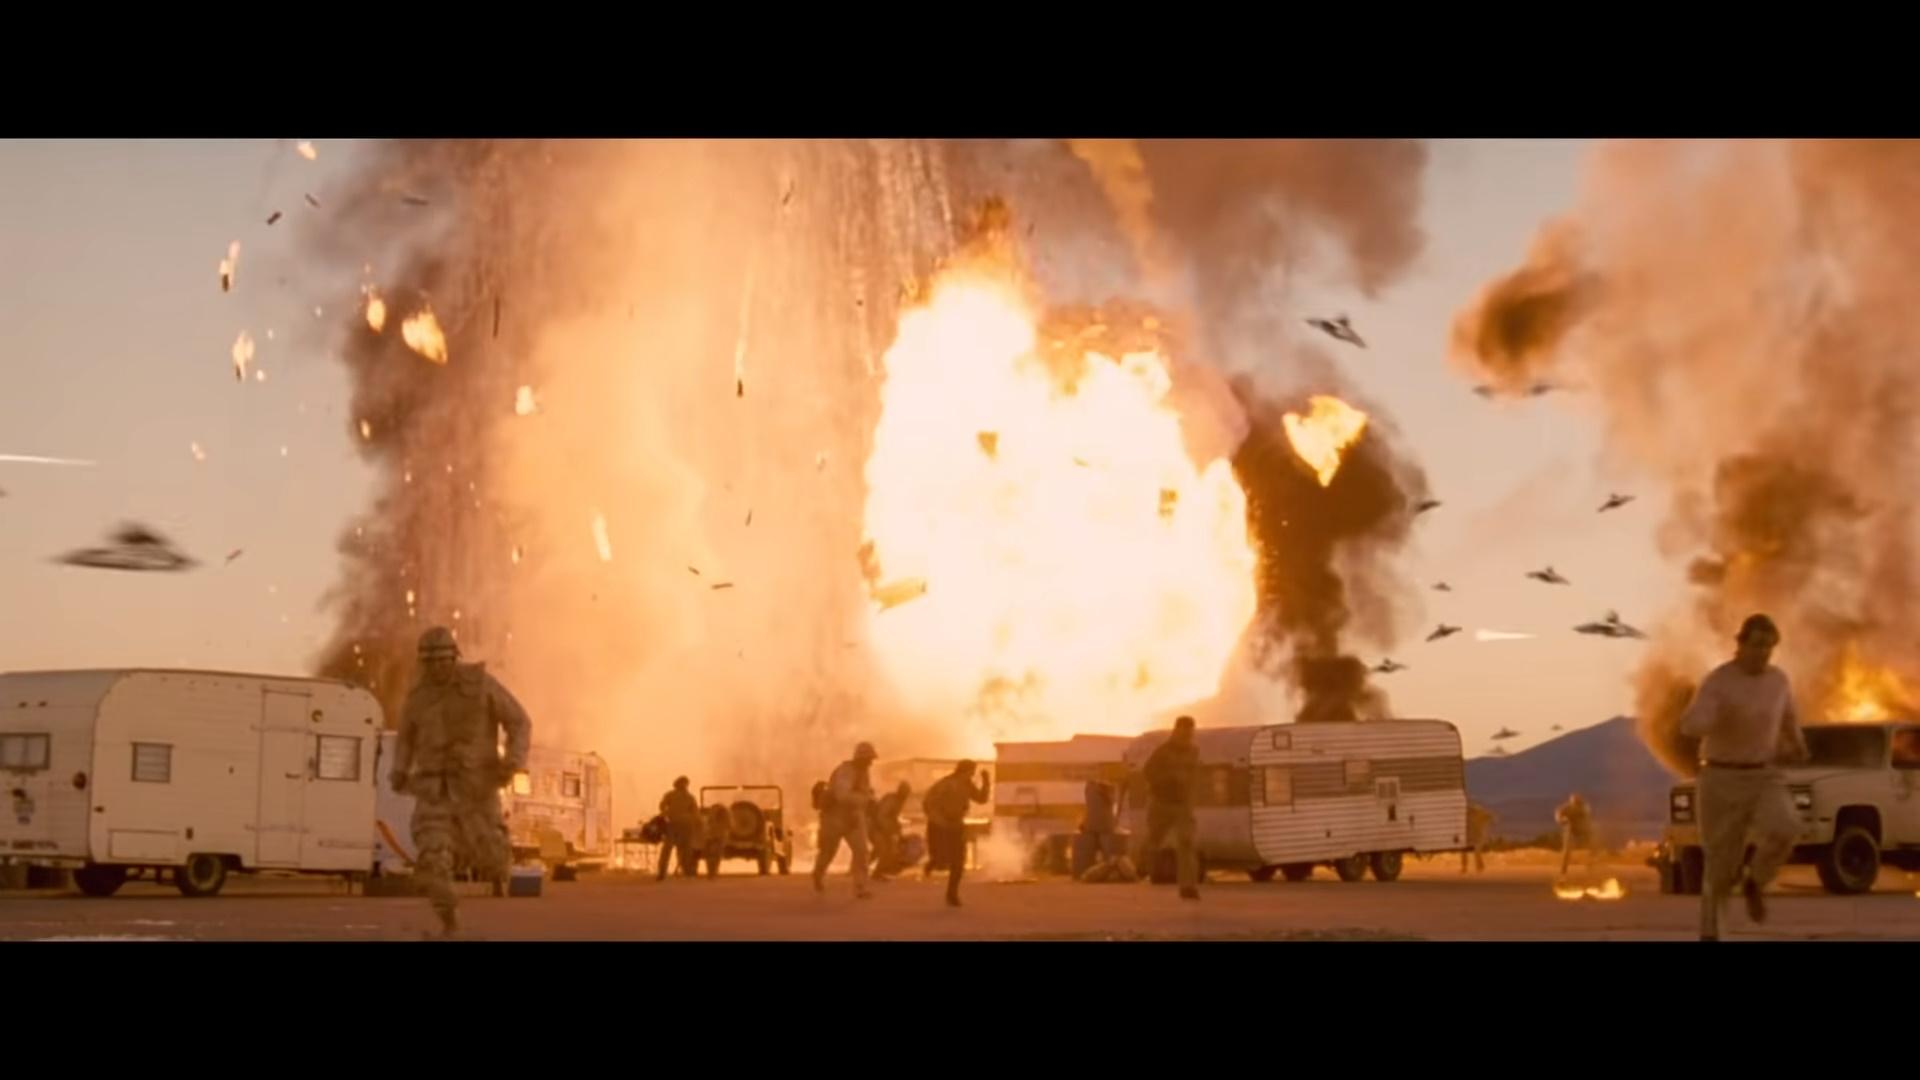fire: (864, 225, 1403, 844)
